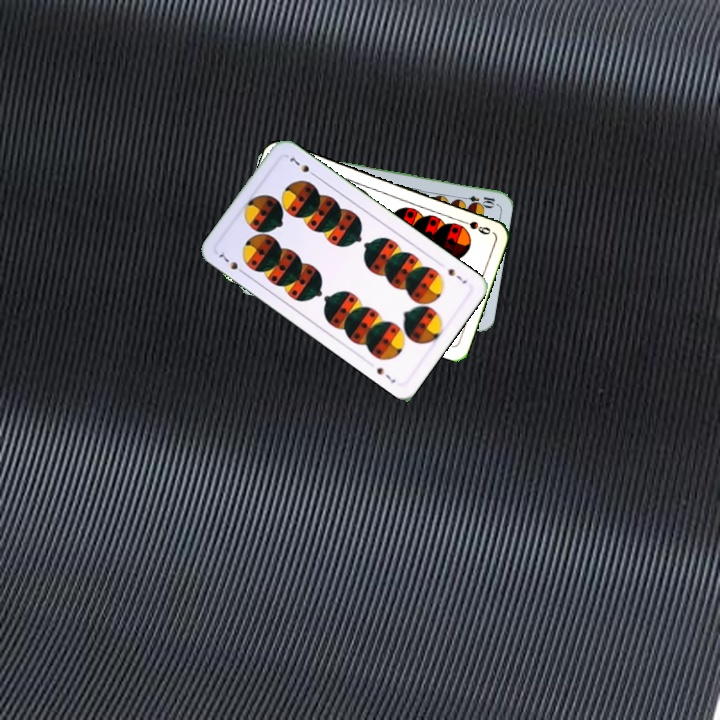E10: (457, 191, 497, 208)
S7: (215, 247, 248, 278), (444, 264, 469, 286)
S9: (455, 215, 493, 237)
